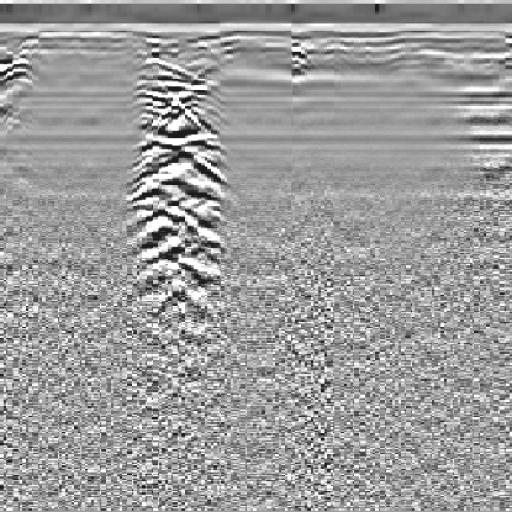metalic: (114, 48, 248, 365)
